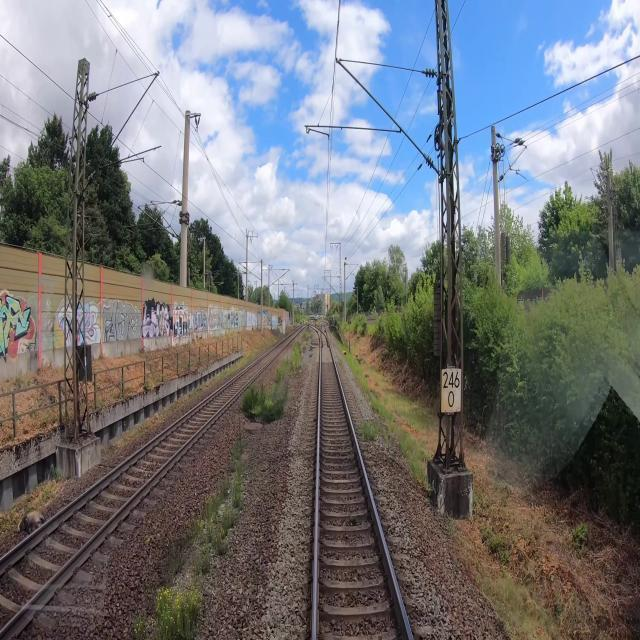Plant: (187, 432, 251, 573), (242, 338, 307, 426), (152, 581, 206, 639), (130, 615, 148, 639), (303, 329, 315, 341)
